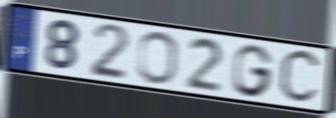2: (90, 22, 131, 83), (185, 36, 226, 94)
8: (44, 18, 80, 72)
C: (276, 47, 324, 107)
G: (231, 42, 275, 99)
O: (135, 30, 179, 87)
